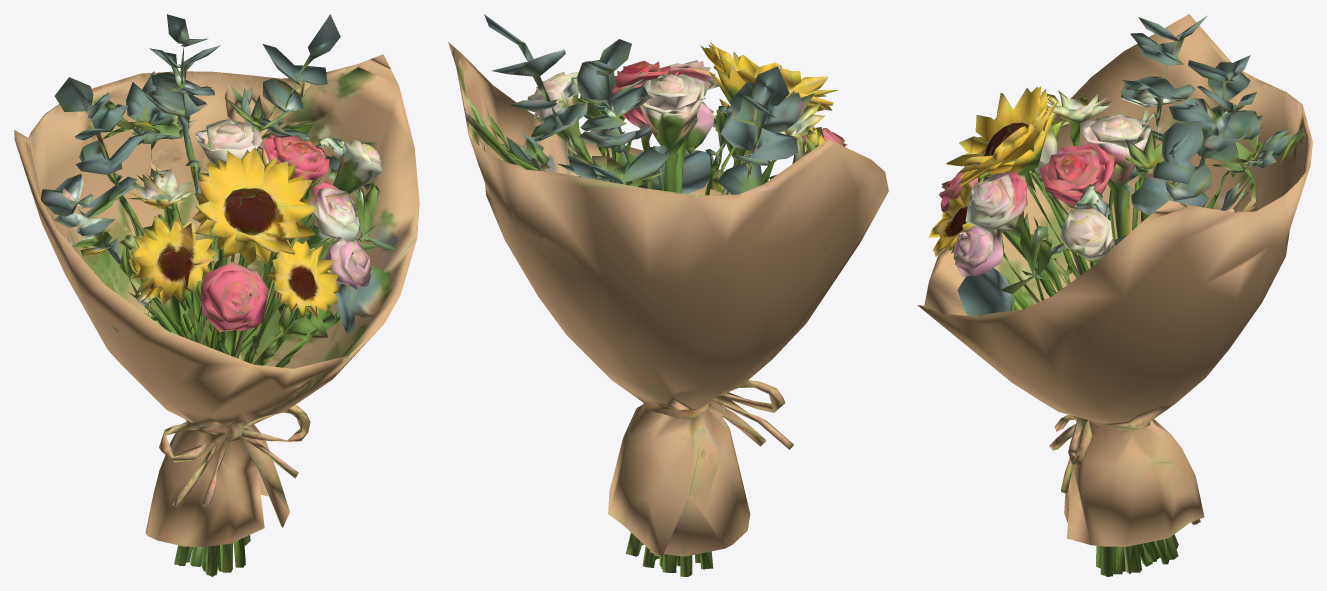
The model's file is Bouquet.glb.
3 views of the same model, side by side, from view 1: azimuth 30°, elevation 25°; view 2: azimuth 150°, elevation 25°; view 3: azimuth 270°, elevation 25° (orthographic). The views are drawn at different scales.
Parts seen in each view (by area): view 1: Mesh_0; view 2: Mesh_0; view 3: Mesh_0.
Part boxes in pixels (bbox=[...]): Mesh_0: bbox=[14, 14, 419, 576]; Mesh_0: bbox=[448, 14, 888, 576]; Mesh_0: bbox=[917, 14, 1312, 576].
Bounding box in the file's own units: 1.44 × 1.89 × 1.3.
Materials: 1 (1 with a texture image).
